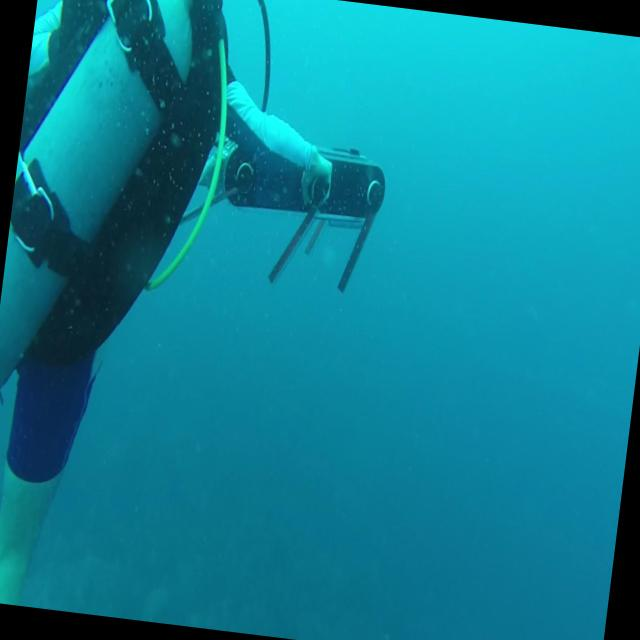human: (0, 0, 374, 639)
